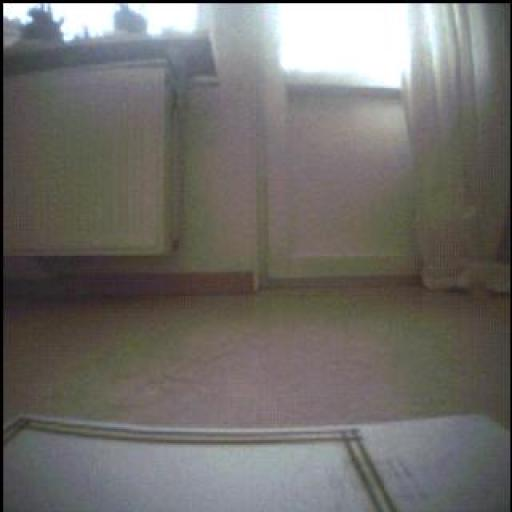Pad: (11, 412, 512, 497)
